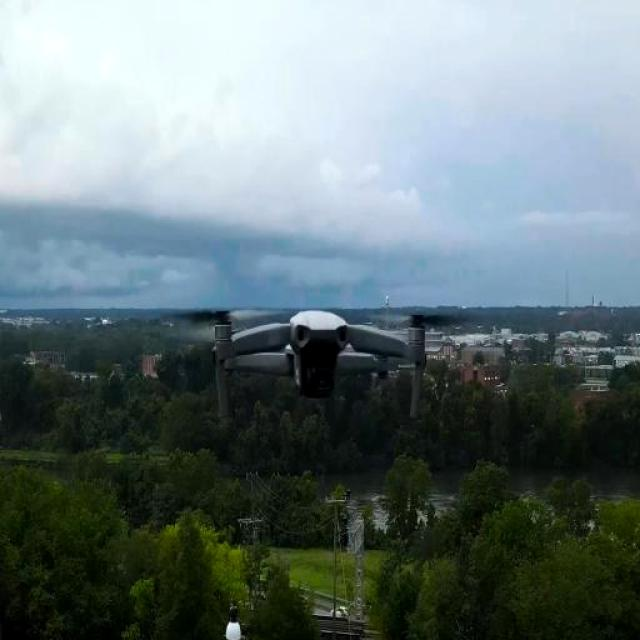bird: (194, 294, 484, 422)
